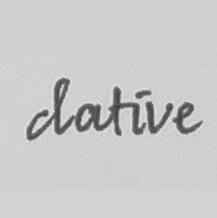a: (72, 100, 103, 134)
d: (23, 75, 71, 142)
e: (175, 100, 205, 136)
i: (128, 88, 142, 138)
t: (105, 85, 126, 138)
v: (143, 99, 174, 136)
